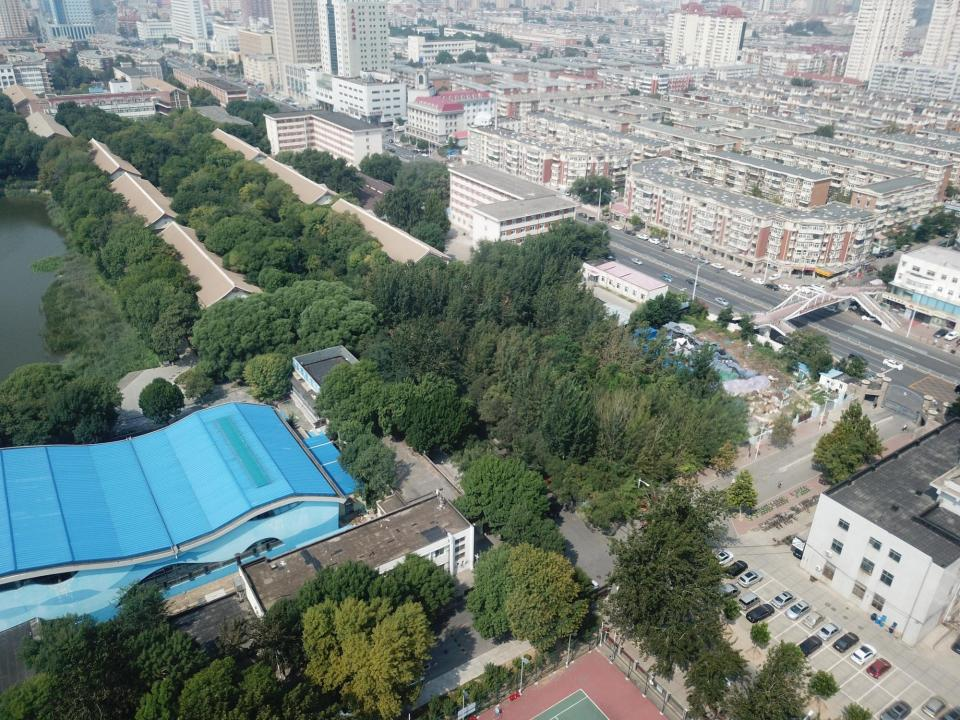car: (568, 579, 598, 606), (849, 642, 878, 666), (794, 635, 824, 658), (921, 694, 949, 718), (879, 700, 912, 720), (745, 603, 775, 624), (832, 631, 860, 653), (815, 619, 843, 641), (785, 599, 812, 620), (866, 658, 892, 679), (802, 609, 827, 629), (771, 590, 796, 610), (709, 550, 734, 570), (737, 570, 763, 588), (724, 560, 748, 579), (938, 704, 960, 720), (882, 358, 904, 370), (859, 371, 878, 384), (841, 301, 858, 311), (944, 331, 959, 341), (794, 286, 812, 294), (861, 314, 879, 322), (933, 329, 949, 338), (695, 299, 709, 309), (715, 297, 730, 306), (726, 268, 742, 276), (750, 277, 766, 285), (822, 306, 838, 314), (764, 283, 779, 291), (778, 284, 793, 292), (810, 284, 825, 292), (686, 278, 700, 286), (661, 274, 674, 282), (697, 257, 710, 264), (710, 262, 725, 268), (631, 258, 643, 265), (768, 274, 780, 281), (672, 248, 685, 254), (624, 230, 636, 236), (636, 234, 648, 240), (648, 238, 660, 244), (659, 243, 671, 249), (870, 253, 882, 259), (611, 224, 622, 230), (577, 212, 587, 218), (684, 253, 696, 258)
van: (714, 583, 741, 601), (737, 591, 761, 611), (848, 352, 869, 365), (882, 250, 894, 258), (900, 244, 910, 251)
